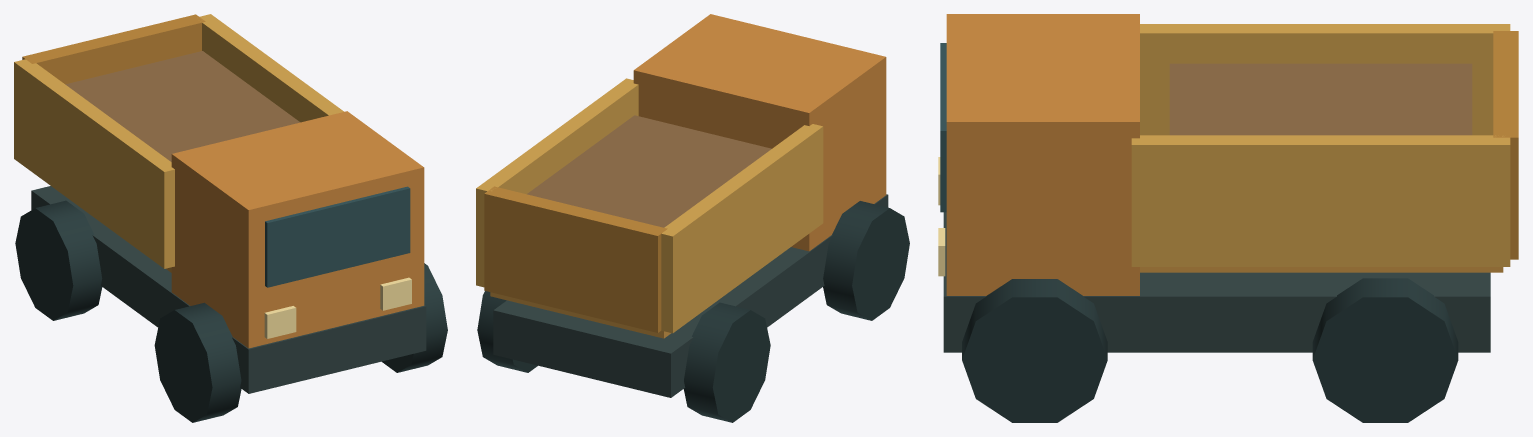
Rendered from dump-truck-loaded.glb.
3 renders of one model, left to right at view 1: azimuth 30°, elevation 25°; view 2: azimuth 150°, elevation 25°; view 3: azimuth 270°, elevation 25°, orthographic. The views are drawn at different scales.
Visible parts, largest first — view 1: dump-truck, dumpBed_ddab50, dump-truck_293c3d, load, dumpBed, dump-truck_ffe8a4; view 2: dump-truck, dumpBed_ddab50, dumpBed, dump-truck_293c3d, load; view 3: dump-truck, dumpBed_ddab50, dump-truck_293c3d, load, dumpBed, dump-truck_ffe8a4.
Boxes of the visible parts, x1=… form: dump-truck: x1=31, y1=111, x2=426, y2=393; dumpBed_ddab50: x1=14, y1=14, x2=343, y2=268; dump-truck_293c3d: x1=15, y1=200, x2=447, y2=422; load: x1=65, y1=51, x2=300, y2=161; dumpBed: x1=22, y1=14, x2=205, y2=272; dump-truck_ffe8a4: x1=264, y1=277, x2=411, y2=338; dump-truck: x1=493, y1=14, x2=888, y2=397; dumpBed_ddab50: x1=476, y1=78, x2=823, y2=333; dumpBed: x1=484, y1=186, x2=671, y2=338; dump-truck_293c3d: x1=477, y1=201, x2=909, y2=422; load: x1=527, y1=115, x2=771, y2=227; dump-truck: x1=940, y1=14, x2=1490, y2=352; dumpBed_ddab50: x1=1131, y1=24, x2=1510, y2=266; dump-truck_293c3d: x1=962, y1=278, x2=1458, y2=422; load: x1=1169, y1=63, x2=1472, y2=135; dumpBed: x1=1140, y1=31, x2=1518, y2=272; dump-truck_ffe8a4: x1=938, y1=157, x2=945, y2=276.
Bounding box in the file's own units: 1.22 × 1.11 × 2.07.
